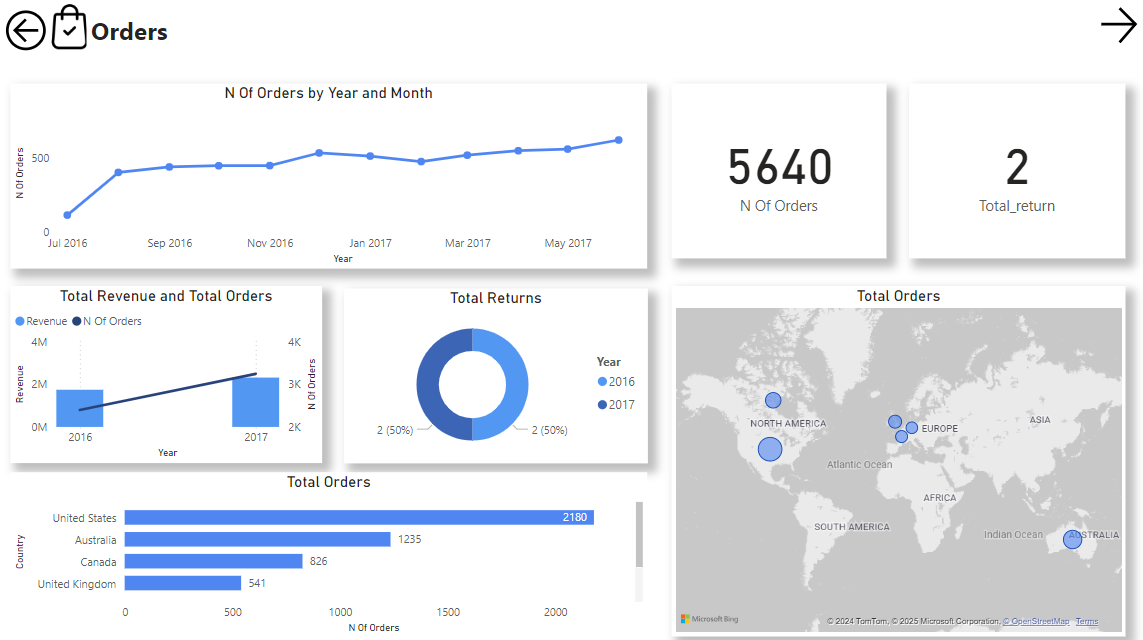

The page's visual inventory and layout, read from the dashboard file:
{"tool":"powerbi","page":{"name":"orders","canvas":[1280,720],"ordinal":1},"visuals":[{"type":"actionButton","box":[12.3,15.1,94.7,56.3],"z":0},{"type":"image","title":"Orders","box":[59,0,59,78.2],"z":1000},{"type":"textbox","box":[107,20.6,102.9,45.3],"z":2000},{"type":"actionButton","box":[1214.4,12.3,65.9,50.8],"z":3000},{"type":"lineChart","fields":{"Y":["key measure.N Of Orders"],"Category":["Calendar.Date.Variation.Date Hierarchy.Year","Calendar.Date.Variation.Date Hierarchy.Month"]},"box":[23.6,101.8,699.1,203.5],"z":4000},{"type":"lineStackedColumnComboChart","title":"Total Revenue and Total Orders","fields":{"Category":["Calendar.Date.Variation.Date Hierarchy.Year"],"Y":["key measure.Revenue"],"Y2":["key measure.N Of Orders"]},"box":[23.6,324.5,342.2,194.7],"z":5000},{"type":"donutChart","title":"Total Returns","fields":{"Y":["key measure.N of quantity returned"],"Category":["Calendar.Year"]},"box":[389.7,326.6,333.4,192.1],"z":6000},{"type":"clusteredBarChart","title":"Total Orders","fields":{"Category":["Territories.Country"],"Y":["key measure.N Of Orders"]},"box":[23.6,528,699.1,181.4],"z":7000},{"type":"card","fields":{"Values":["key measure.N Of Orders"]},"box":[749.3,101.8,236,191.7],"z":8000},{"type":"card","fields":{"Values":["key measure.Total_return"]},"box":[1010.4,101.8,237.5,191.7],"z":9000},{"type":"map","title":"Total Orders","fields":{"Category":["Territories.Country"],"Size":["key measure.N Of Orders"]},"box":[749.3,324.5,498.5,385],"z":10000}]}

Visuals, with their boxes in screenshot pixels (x1, y1, x2, y2), scaled from the page's 1280x720 canvas onto the 1143x640 screenshot:
actionButton: select_region(11, 13, 96, 63)
"Orders" image: select_region(53, 0, 105, 70)
textbox: select_region(96, 18, 187, 59)
actionButton: select_region(1084, 11, 1142, 56)
lineChart - key measure.N Of Orders x Calendar.Date.Variation.Date Hierarchy.Year: select_region(21, 90, 645, 271)
"Total Revenue and Total Orders" lineStackedColumnComboChart: select_region(21, 288, 327, 462)
"Total Returns" donutChart: select_region(348, 290, 646, 461)
"Total Orders" clusteredBarChart: select_region(21, 469, 645, 631)
card - key measure.N Of Orders: select_region(669, 90, 880, 261)
card - key measure.Total_return: select_region(902, 90, 1114, 261)
"Total Orders" map: select_region(669, 288, 1114, 631)
